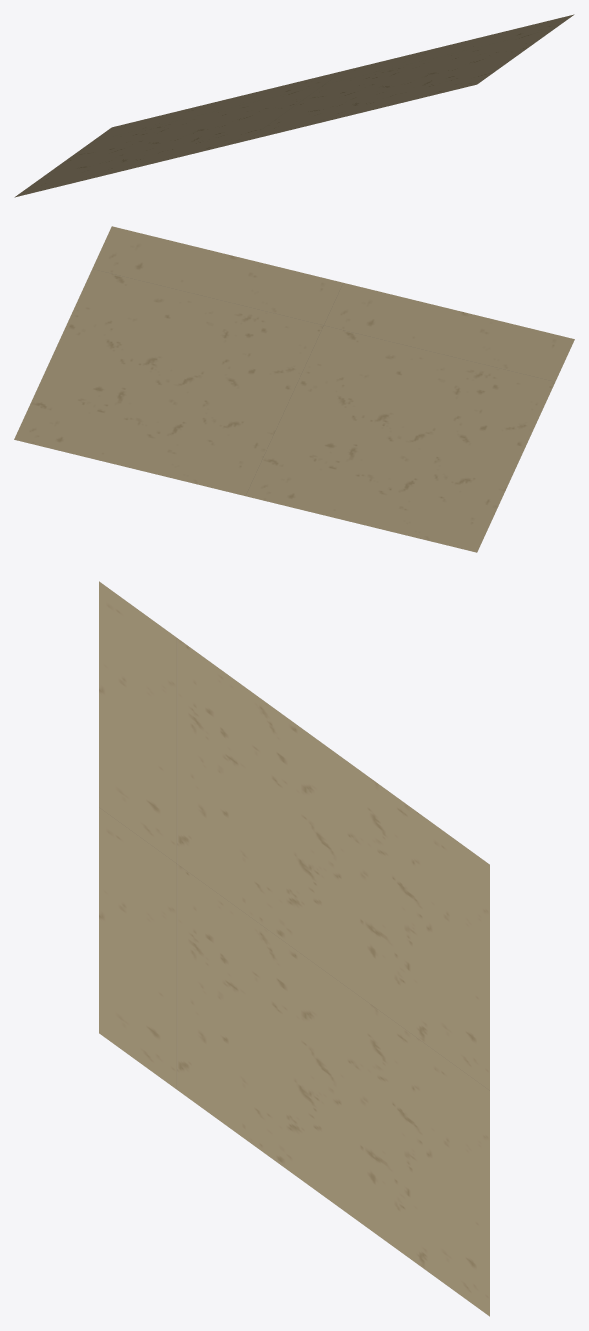
File: SW_ENV_StationStair_Short_Ceiling_FF.fbx
3 views of the same model, one above another, from view 1: azimuth 30°, elevation 25°; view 2: azimuth 150°, elevation 25°; view 3: azimuth 270°, elevation 25° (orthographic). The views are drawn at different scales.
Parts seen in each view (by area): view 1: SW_ENV_StationStair_Short_Ceiling_FF; view 2: SW_ENV_StationStair_Short_Ceiling_FF; view 3: SW_ENV_StationStair_Short_Ceiling_FF.
Boxes of the visible parts, <box> form: SW_ENV_StationStair_Short_Ceiling_FF: <box>14,14,574,197</box>; SW_ENV_StationStair_Short_Ceiling_FF: <box>14,226,574,552</box>; SW_ENV_StationStair_Short_Ceiling_FF: <box>99,581,489,1316</box>.
Bounding box in the file's own units: 410 × 120 × 150.
